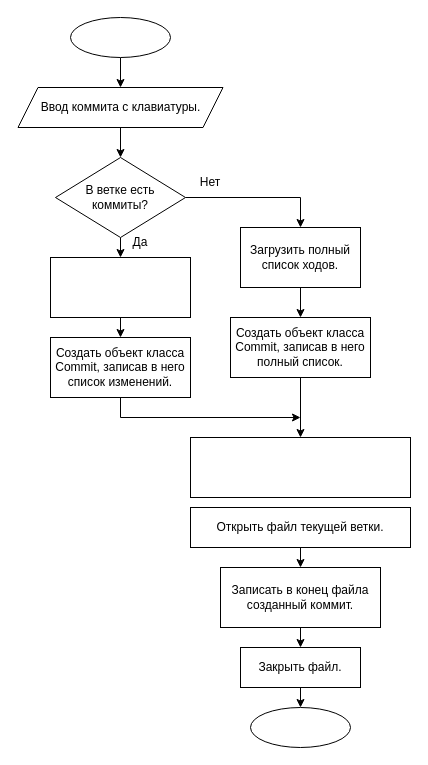
This 428x765 diagram has some shape labels left out. The box of each missing label's shape, as (x1, y1, x2, y2) in pixels:
Добавить коммит в конец списка коммитов текущей ветки.: (190, 436, 410, 498)
Загрузить список изменений относительно предыдущего коммита.: (50, 256, 190, 318)
Конец: (250, 706, 350, 748)
Начало: (70, 16, 170, 58)
